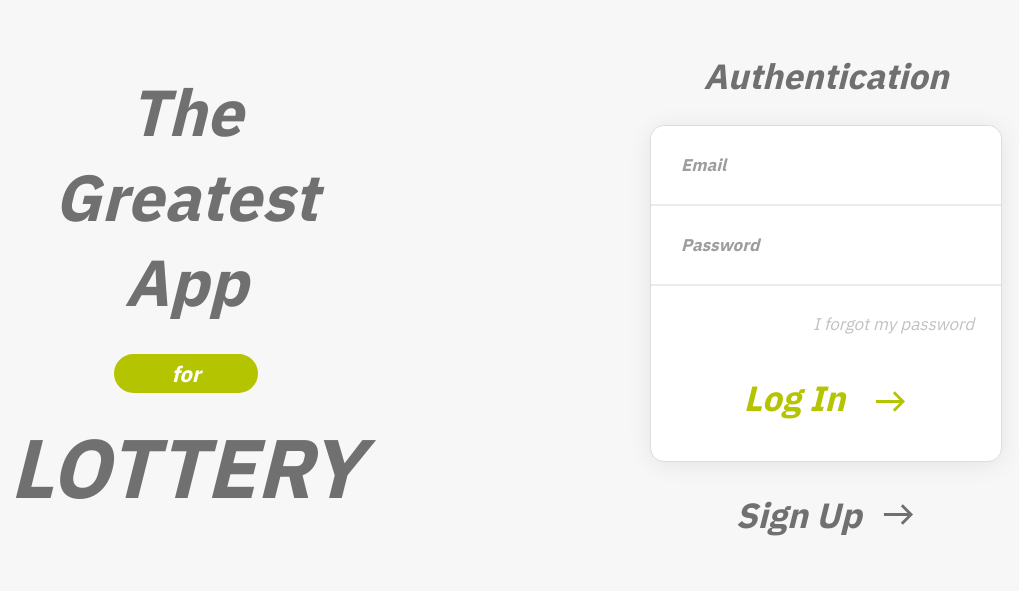
Test case: Sign up user › When user leaves form blank › Should not be able to sign up an user and shows errors
The width and height of the screenshot is (1019, 591).
Click the link "Sign Up" at x=827, y=515, box [736,492,917,538]
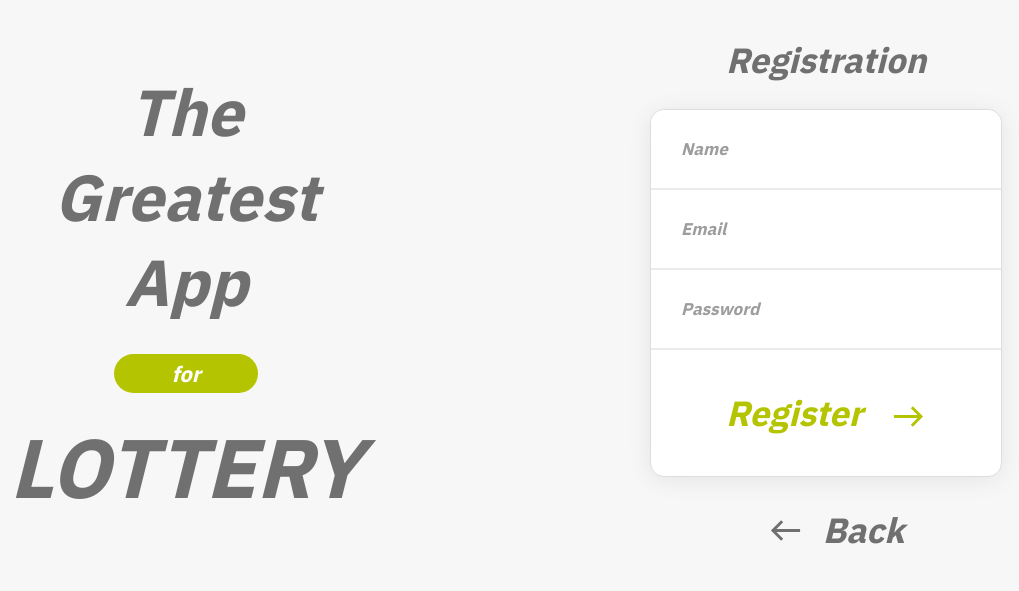
Click the button "Register" at x=826, y=413, box [726,390,926,436]
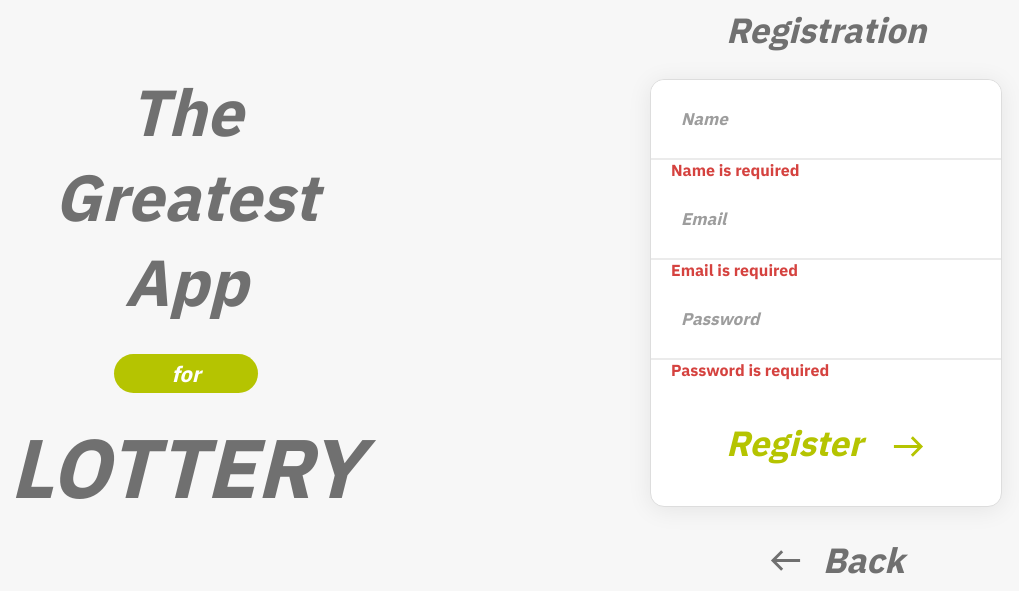
Result: the text "Name is required" is shown at [671,160,800,180]
Result: the text "Email is required" is shown at [671,260,798,280]
Result: the text "Password is required" is shown at [671,360,829,380]
